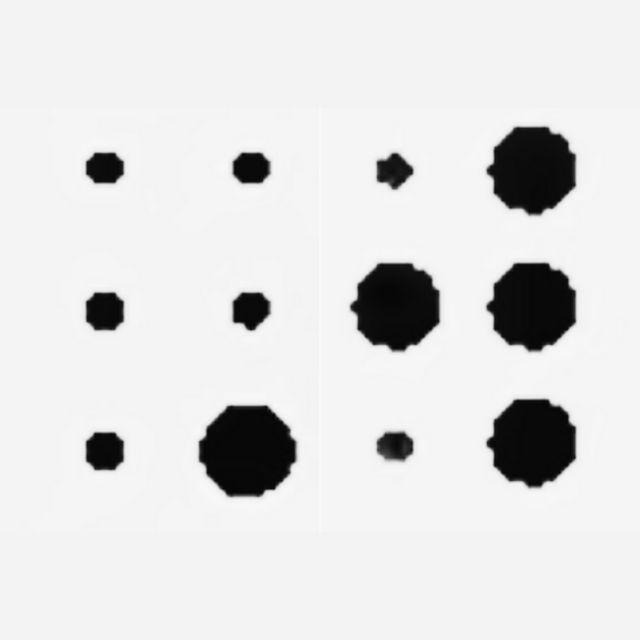W: (349, 125, 576, 487)
capital: (63, 121, 296, 498)
